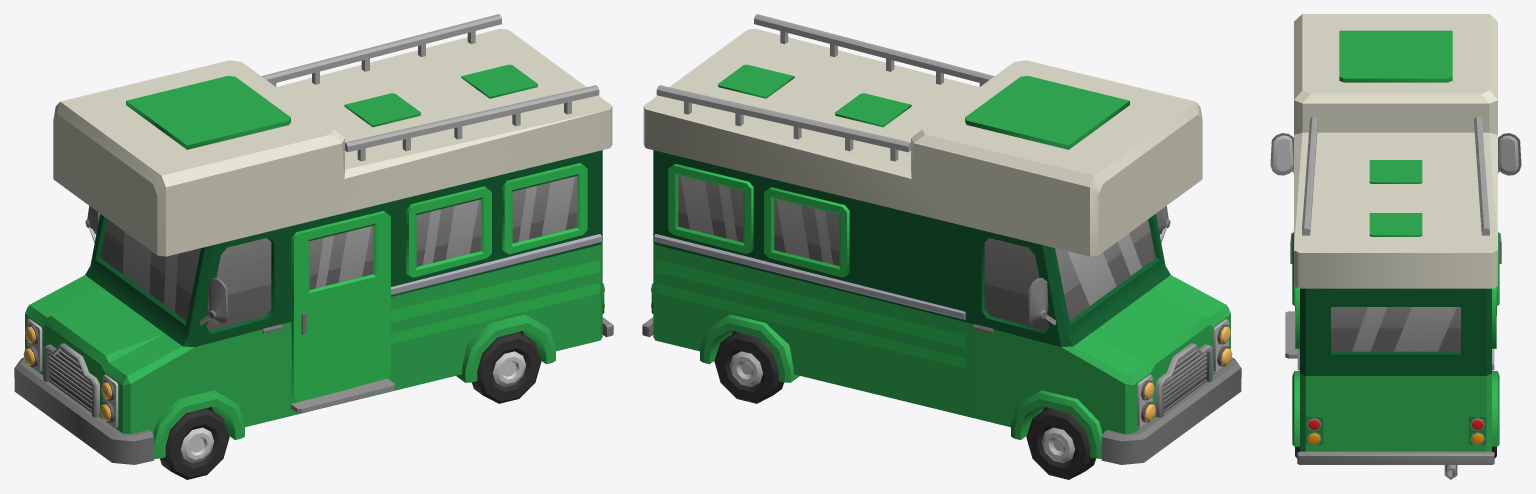
Rendered from RVCar_B.gltf.
3 views of the same model, side by side, from view 1: azimuth 30°, elevation 25°; view 2: azimuth 150°, elevation 25°; view 3: azimuth 270°, elevation 25° (orthographic). The views are drawn at different scales.
Visible parts, largest first — view 1: RVCar_B, RL, FL; view 2: RVCar_B, RR, FR; view 3: RVCar_B.
Boxes of the visible parts, bbox=[...] form: RVCar_B: bbox=[14, 14, 613, 464]; RL: bbox=[472, 332, 541, 403]; FL: bbox=[160, 408, 229, 479]; RVCar_B: bbox=[642, 14, 1241, 464]; RR: bbox=[714, 332, 783, 403]; FR: bbox=[1026, 408, 1095, 479]; RVCar_B: bbox=[1270, 14, 1521, 479].
Size of the model in its own units: 4.14 by 2.46 by 1.94.
4 materials, 4 textured.
